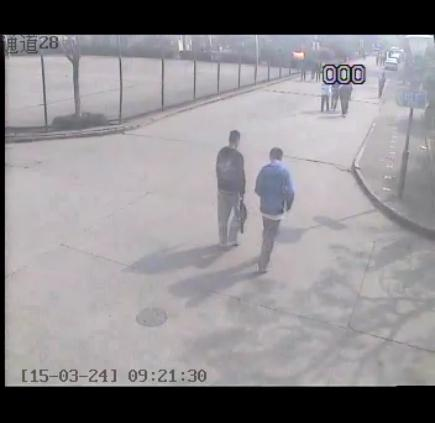person: (251, 145, 296, 277), (214, 128, 248, 249), (318, 75, 335, 116), (375, 69, 388, 101)
